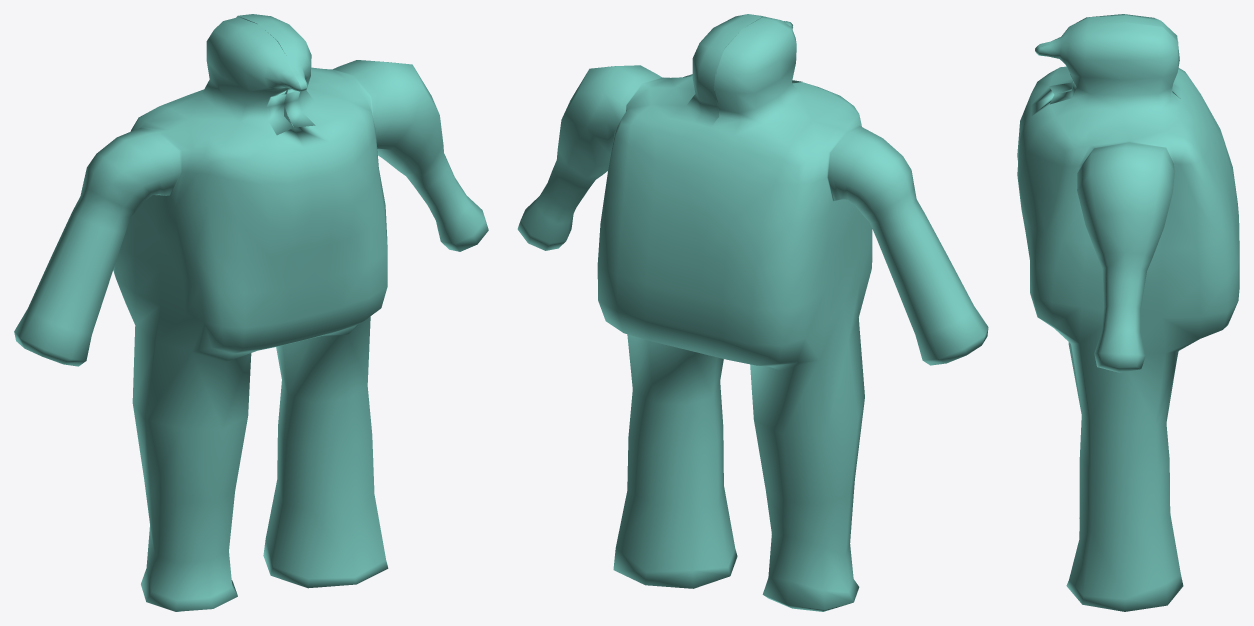
3 renders of one model, left to right at view 1: azimuth 30°, elevation 25°; view 2: azimuth 150°, elevation 25°; view 3: azimuth 270°, elevation 25°, orthographic. The views are drawn at different scales.
Parts seen in each view (by area): view 1: Cube; view 2: Cube; view 3: Cube.
Boxes of the visible parts, <box> form: Cube: <box>14,14,488,611</box>; Cube: <box>517,14,988,611</box>; Cube: <box>1017,14,1239,611</box>.
Size of what is drawn, in the model's own units: 4.43 by 1.91 by 5.09.
